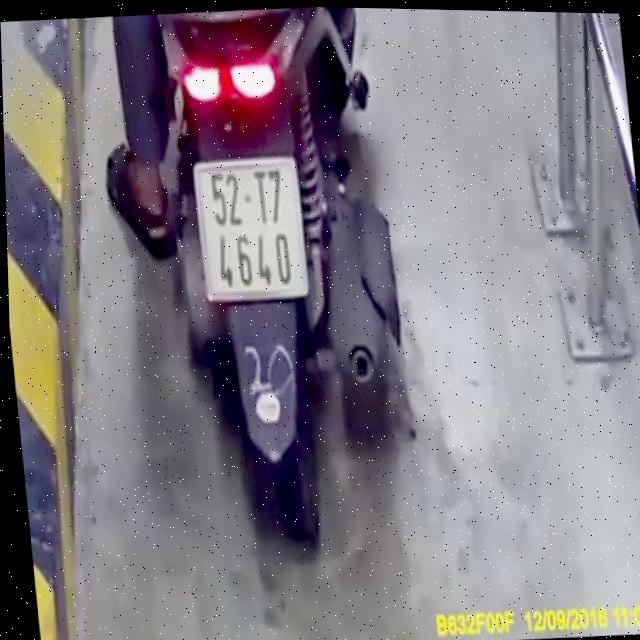motorcycle: (125, 3, 439, 535)
plate: (185, 148, 314, 313)
